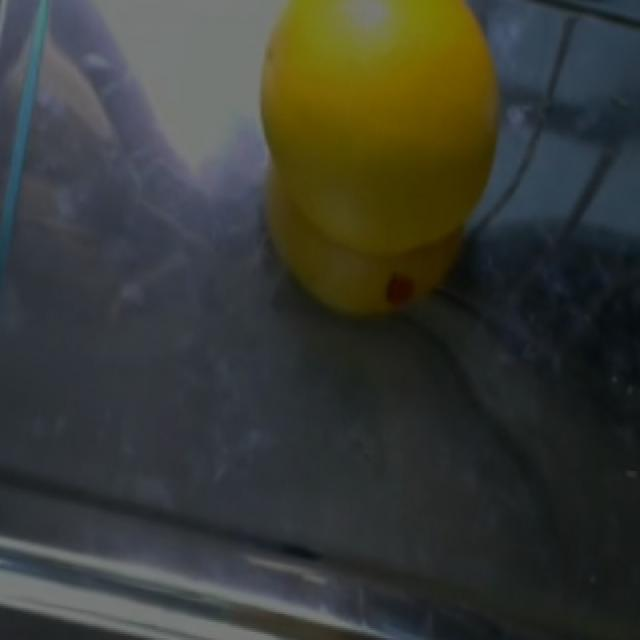Fruit: (262, 0, 524, 250)
